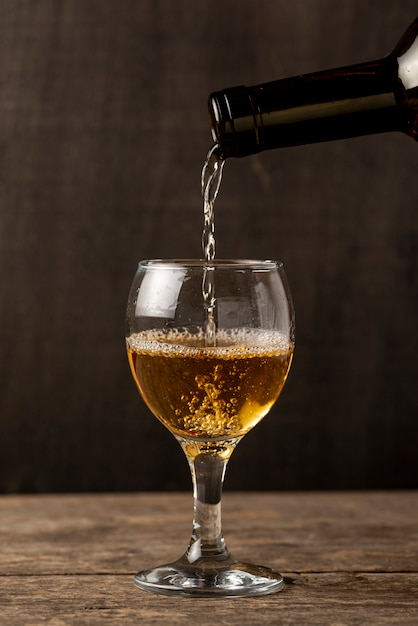alcohol: (124, 256, 298, 600), (201, 10, 418, 171)
